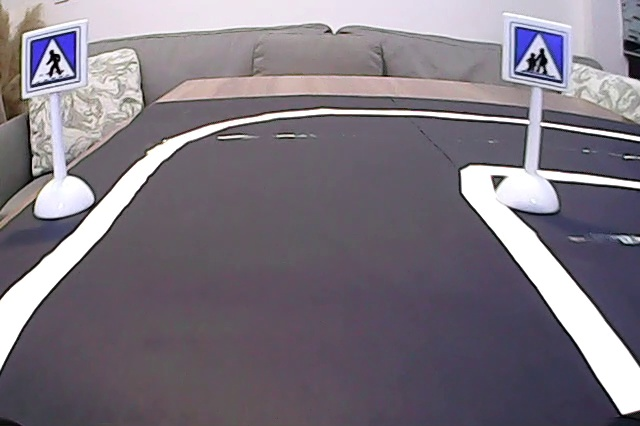pedestrian crossing: (24, 27, 85, 95)
school crossing: (512, 22, 565, 87)
